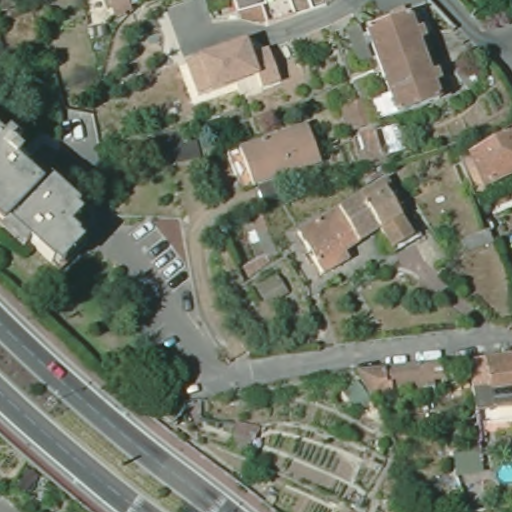pool: (498, 461, 512, 487)
